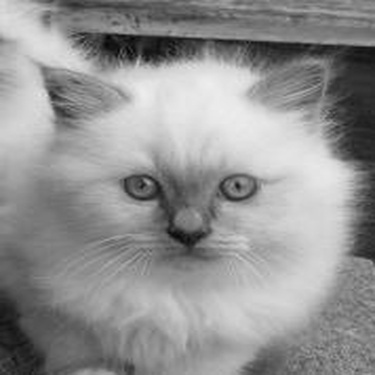cat: (4, 12, 359, 371)
